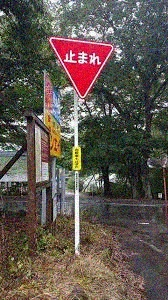Regulatory_sign_triangle: (46, 34, 117, 106)
